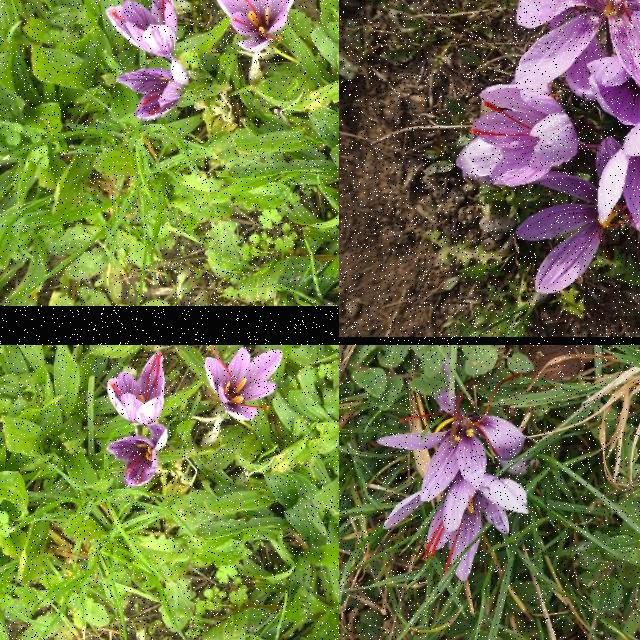flower: (469, 84, 579, 188), (205, 345, 283, 421), (116, 60, 194, 122), (598, 114, 640, 223), (212, 0, 297, 52), (105, 0, 179, 59), (107, 351, 165, 425), (106, 424, 168, 488)
overlap: (455, 0, 640, 293), (376, 360, 530, 582)
